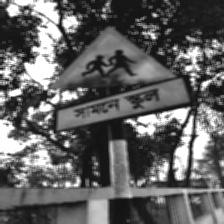School-in-front: (50, 25, 191, 133)
